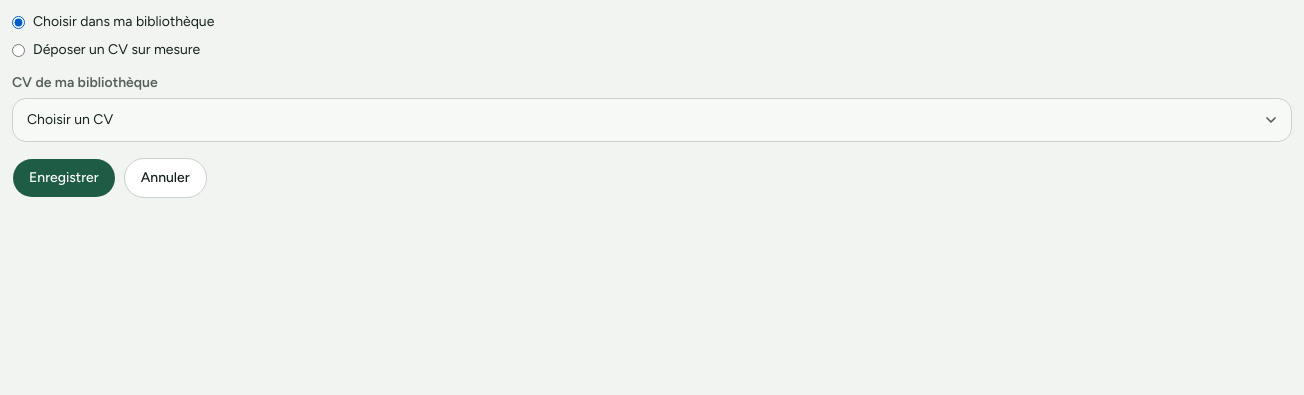
Test case: SentCvEditForm › shows the tailored fields when the tailored choice is selected
Expected: the field labelled "Nom du CV" is not shown
Click the radio button labelled "Déposer un CV sur mesure": coordinates (18, 50) 12,44 -> 25,56
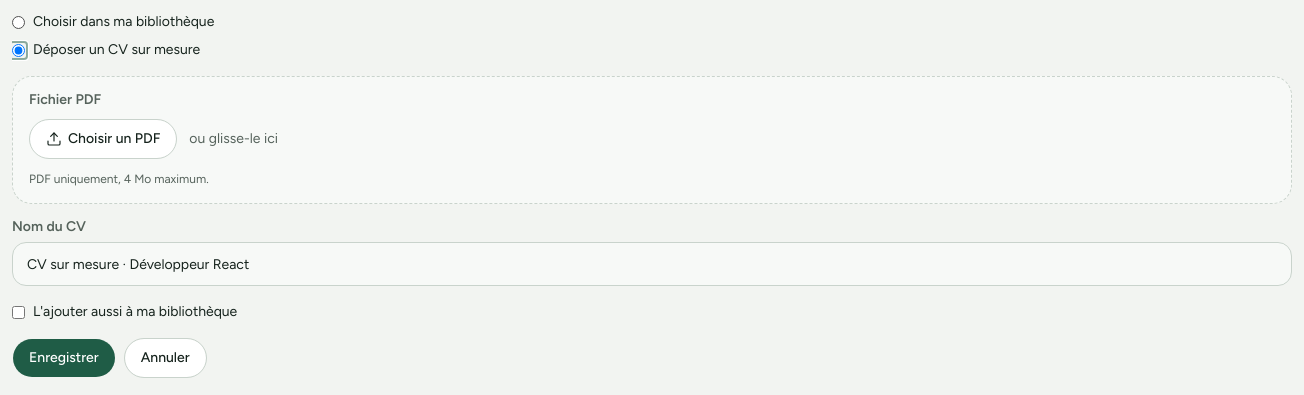
Expected: the field labelled "Nom du CV" is shown, 12,242 -> 1292,286
Expected: the checkbox labelled "L'ajouter aussi à ma bibliothèque" is not checked, 12,306 -> 25,318
